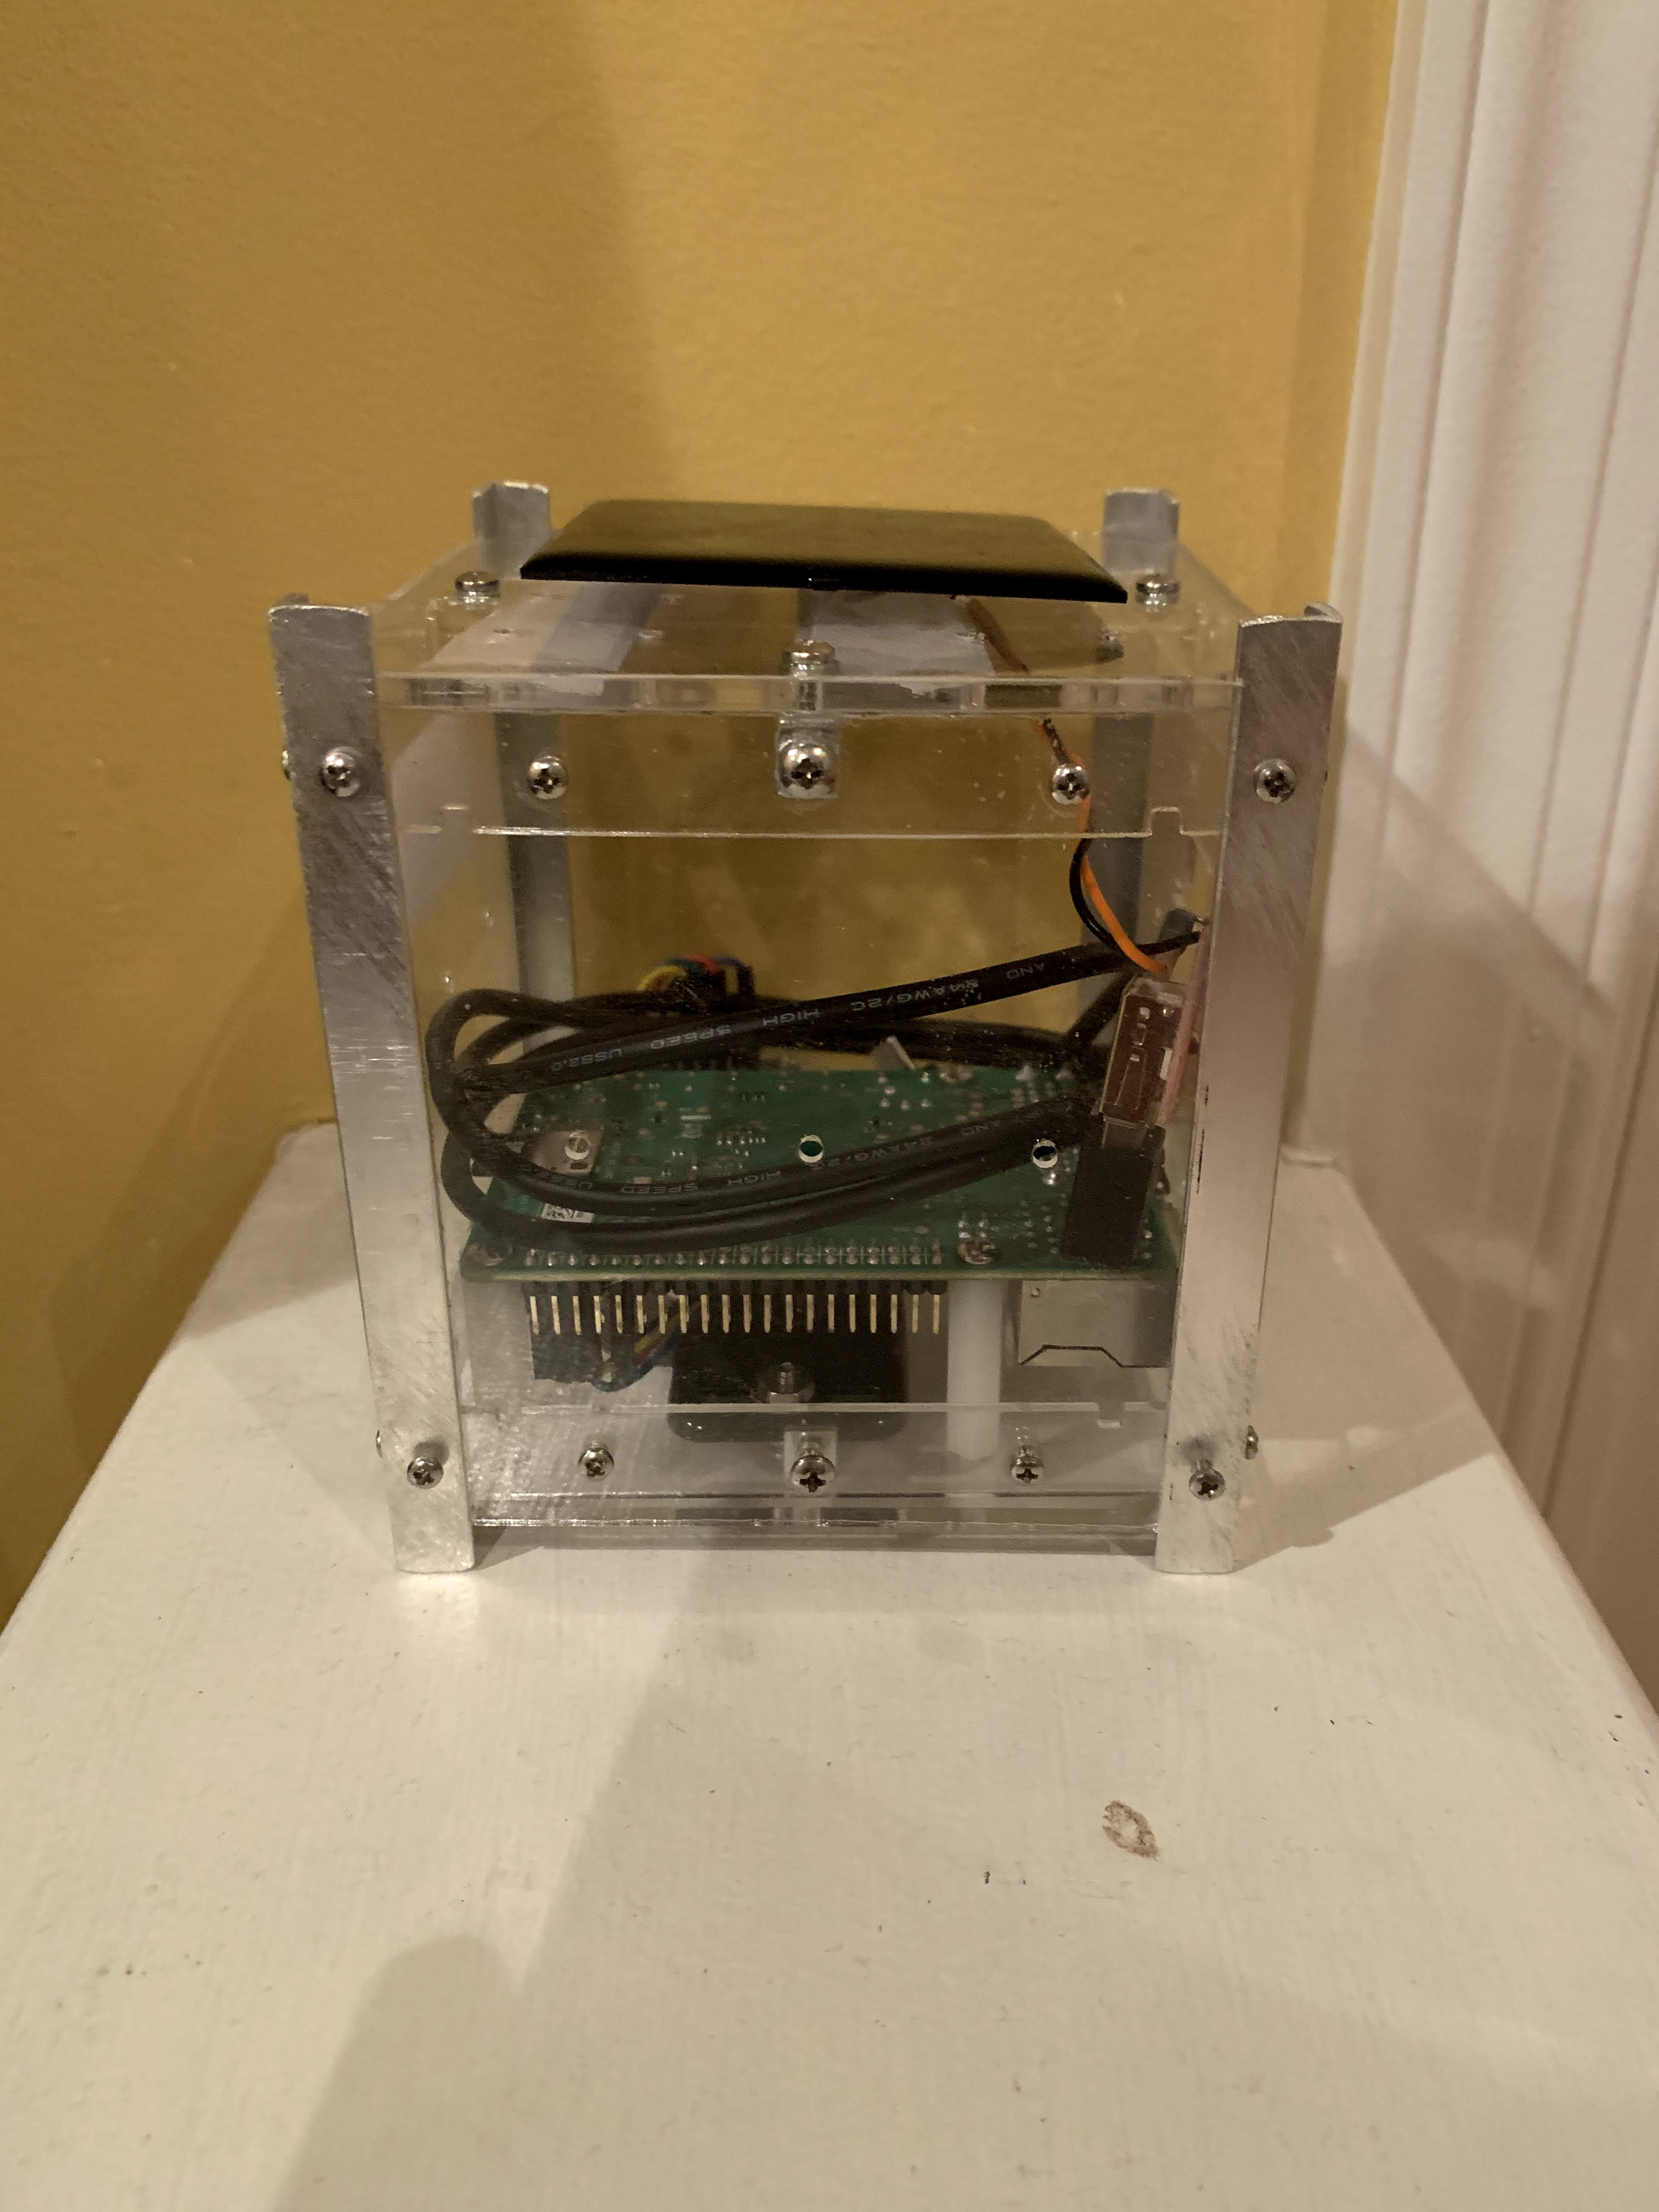Space-debris-cubesat: (239, 357, 1389, 1649)
